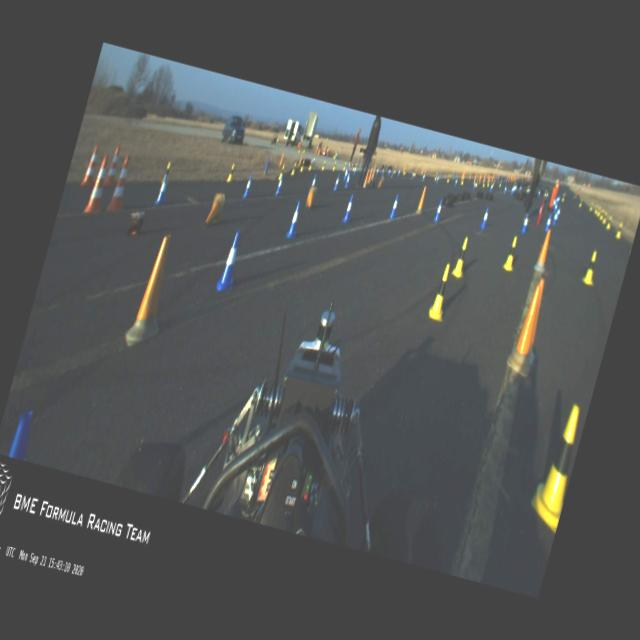blue_cone: (214, 228, 246, 296), (8, 410, 36, 460), (284, 198, 304, 240), (154, 174, 171, 210), (341, 192, 356, 224), (241, 173, 254, 200), (388, 194, 401, 219), (478, 205, 491, 230), (432, 198, 444, 224), (274, 173, 286, 197), (520, 213, 530, 235), (543, 213, 552, 233), (342, 171, 352, 189), (332, 173, 341, 192), (550, 211, 559, 229), (310, 172, 318, 185), (342, 164, 348, 178), (342, 168, 348, 181), (396, 167, 402, 179), (434, 173, 440, 184), (517, 183, 522, 195), (386, 167, 391, 179), (374, 166, 380, 176), (352, 164, 357, 176), (420, 172, 426, 182), (502, 184, 507, 195), (453, 176, 458, 187), (488, 183, 494, 192), (536, 188, 541, 198), (390, 166, 394, 178), (410, 169, 414, 180), (472, 182, 476, 191)
large_orange_cone: (83, 152, 115, 218), (105, 154, 136, 216), (80, 143, 102, 190), (103, 145, 123, 186)
unknown_cone: (122, 227, 184, 355), (503, 284, 552, 382), (514, 275, 555, 368), (532, 226, 556, 270), (202, 190, 228, 230), (415, 184, 429, 212), (304, 184, 318, 210), (362, 168, 371, 188), (262, 156, 270, 175), (366, 166, 374, 184), (369, 164, 376, 180), (278, 152, 284, 167), (472, 172, 477, 184), (298, 154, 302, 166), (460, 170, 464, 182), (439, 170, 444, 178), (452, 170, 456, 180), (420, 167, 424, 176)
yellow_cone: (525, 402, 588, 534), (426, 262, 457, 322), (448, 234, 472, 280), (580, 249, 602, 286), (502, 234, 522, 272), (162, 158, 172, 179), (614, 220, 624, 240), (226, 164, 236, 182), (276, 163, 286, 181), (604, 214, 612, 230), (290, 162, 297, 176), (577, 196, 584, 210), (299, 159, 306, 172), (307, 160, 314, 173), (602, 210, 608, 224), (598, 208, 605, 220), (596, 205, 602, 218), (445, 170, 451, 183), (560, 190, 566, 203), (588, 199, 594, 211), (321, 158, 326, 171), (592, 204, 598, 214), (542, 188, 547, 198), (342, 161, 347, 170), (392, 164, 397, 173), (332, 160, 336, 171), (412, 168, 417, 176), (460, 177, 464, 186), (352, 162, 356, 171), (498, 180, 502, 188), (434, 172, 437, 180), (403, 167, 406, 175)
